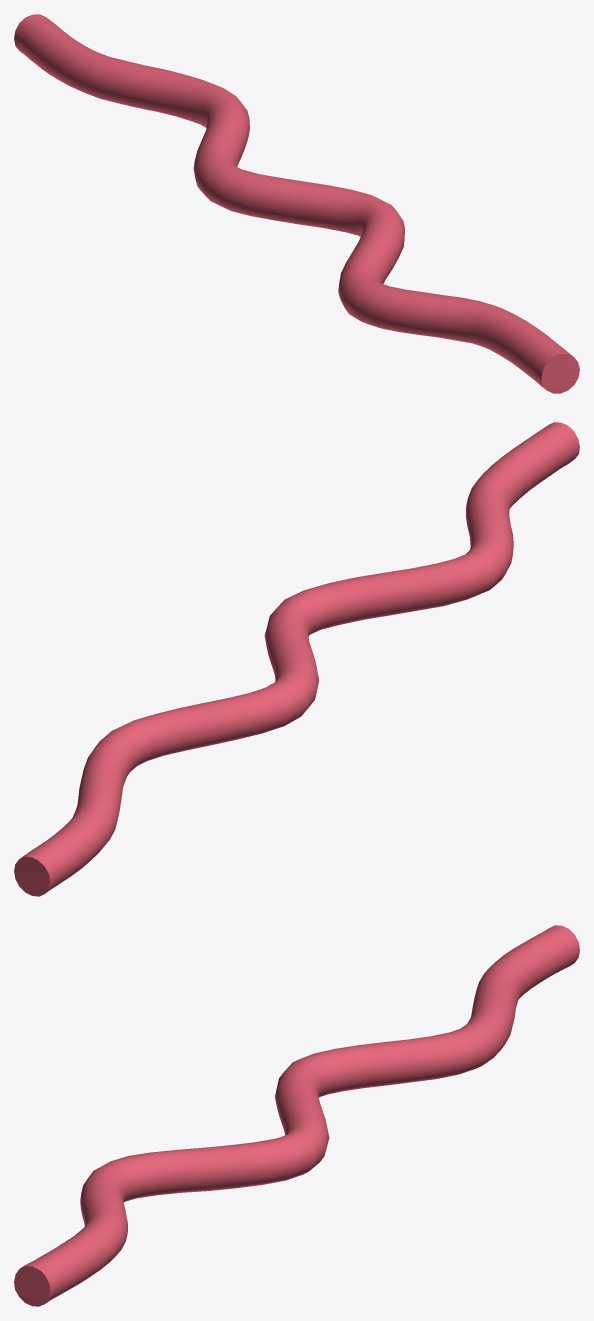
The model's file is stage_vessel.glb.
The picture shows the model from 3 angles, top to bottom: view 1: azimuth 30°, elevation 25°; view 2: azimuth 150°, elevation 25°; view 3: azimuth 330°, elevation 25°; orthographic projection.
Parts seen in each view (by area): view 1: Vessel; view 2: Vessel; view 3: Vessel.
Boxes of the visible parts, <box> form: Vessel: <box>14,14,579,393</box>; Vessel: <box>14,422,579,896</box>; Vessel: <box>14,925,579,1306</box>.
Bounding box in the file's own units: 35.18 × 20.26 × 226.
